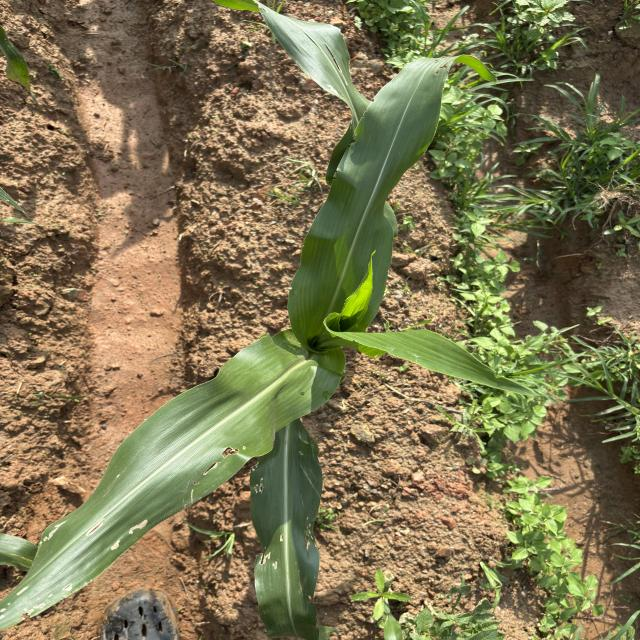maize: (128, 213, 444, 596), (299, 34, 435, 176)
weed: (444, 118, 566, 519), (534, 128, 640, 535), (442, 30, 640, 121), (382, 590, 510, 640), (381, 4, 622, 29), (278, 162, 316, 200)
